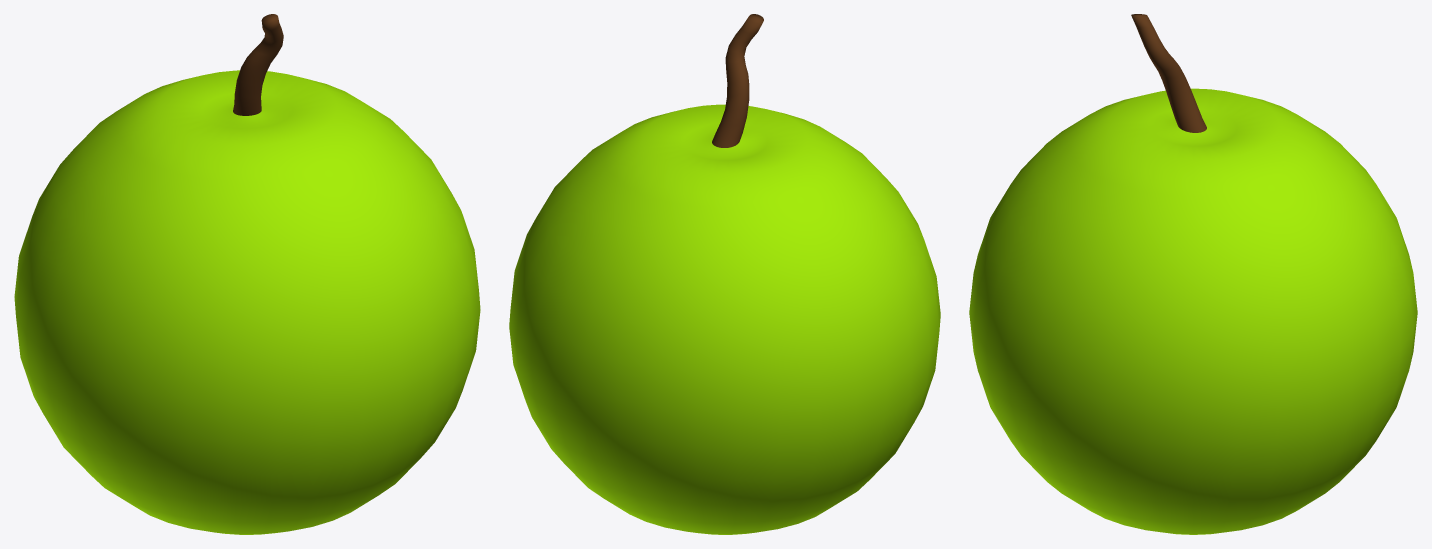
The model's file is Manzana_verde.fbx.
The picture shows the model from 3 angles, left to right: view 1: azimuth 30°, elevation 25°; view 2: azimuth 150°, elevation 25°; view 3: azimuth 270°, elevation 25°; orthographic projection. The views are drawn at different scales.
Parts seen in each view (by area): view 1: Manzana; view 2: Manzana; view 3: Manzana.
Part boxes in pixels (<box>): Manzana: <box>14,14,480,534</box>; Manzana: <box>509,14,940,534</box>; Manzana: <box>969,14,1417,534</box>.
Bounding box in the file's own units: 50.64 × 60.13 × 50.64.
